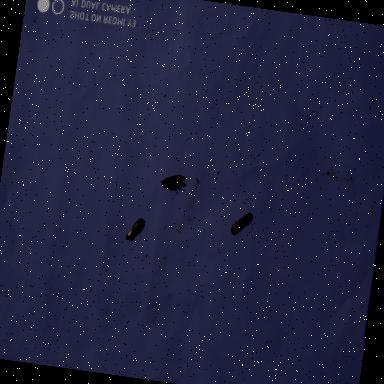pbw: (226, 207, 257, 240), (156, 168, 190, 198), (120, 214, 148, 246)
